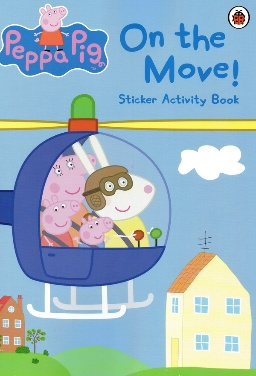Peppa: (40, 197, 80, 248), (34, 2, 72, 52)
